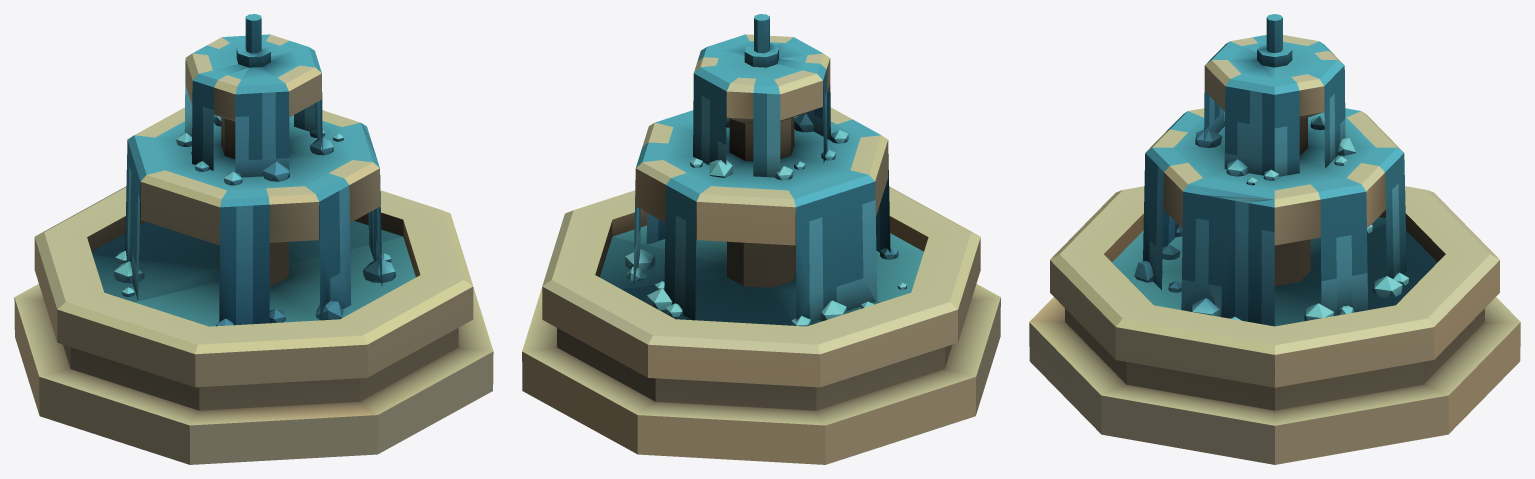
File: fountain_tiers.fbx
3 renders of one model, left to right at view 1: azimuth 30°, elevation 25°; view 2: azimuth 150°, elevation 25°; view 3: azimuth 270°, elevation 25°, orthographic.
Parts seen in each view (by area): view 1: fountain; view 2: fountain; view 3: fountain.
Boxes of the visible parts, bbox=[...] form: fountain: bbox=[14, 14, 493, 464]; fountain: bbox=[522, 14, 1000, 464]; fountain: bbox=[1029, 14, 1520, 464].
Size of the model in its own units: 1 by 0.7713 by 1.
